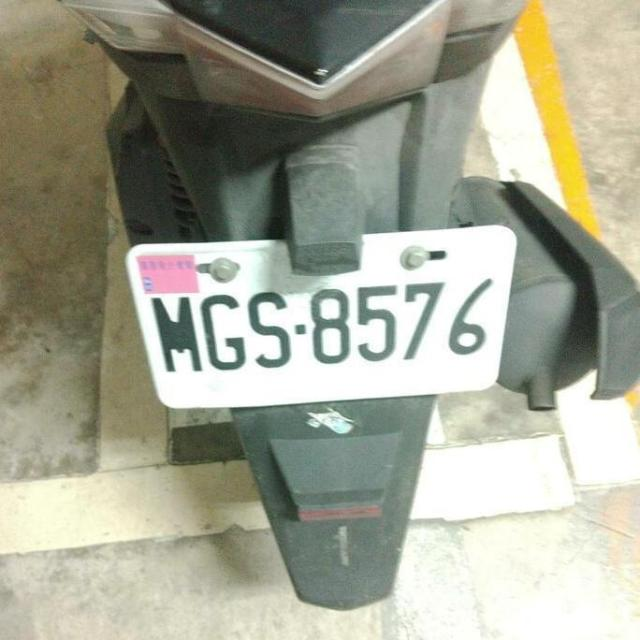W: (114, 217, 524, 426)
